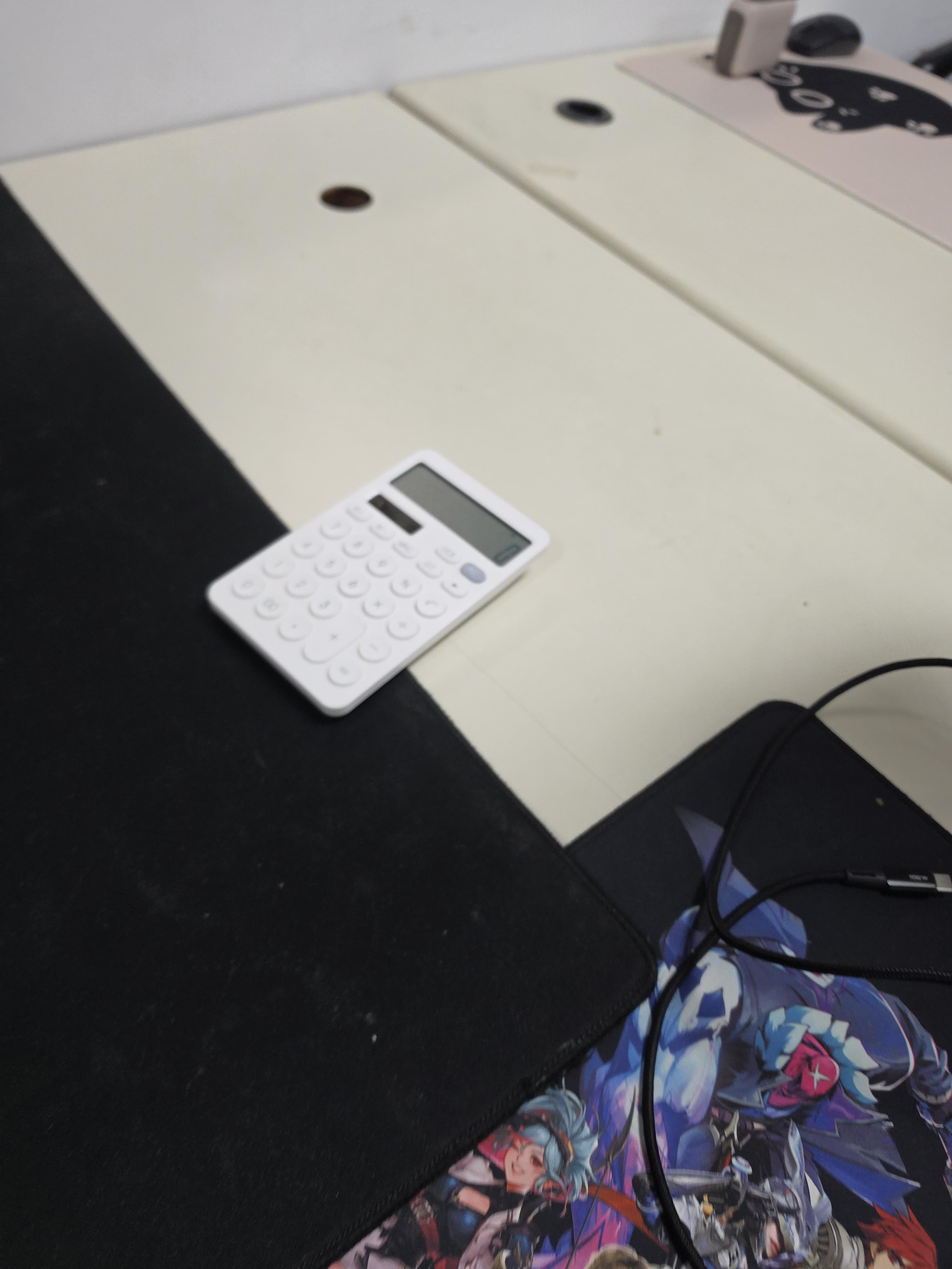calculator: (205, 448, 551, 718)
